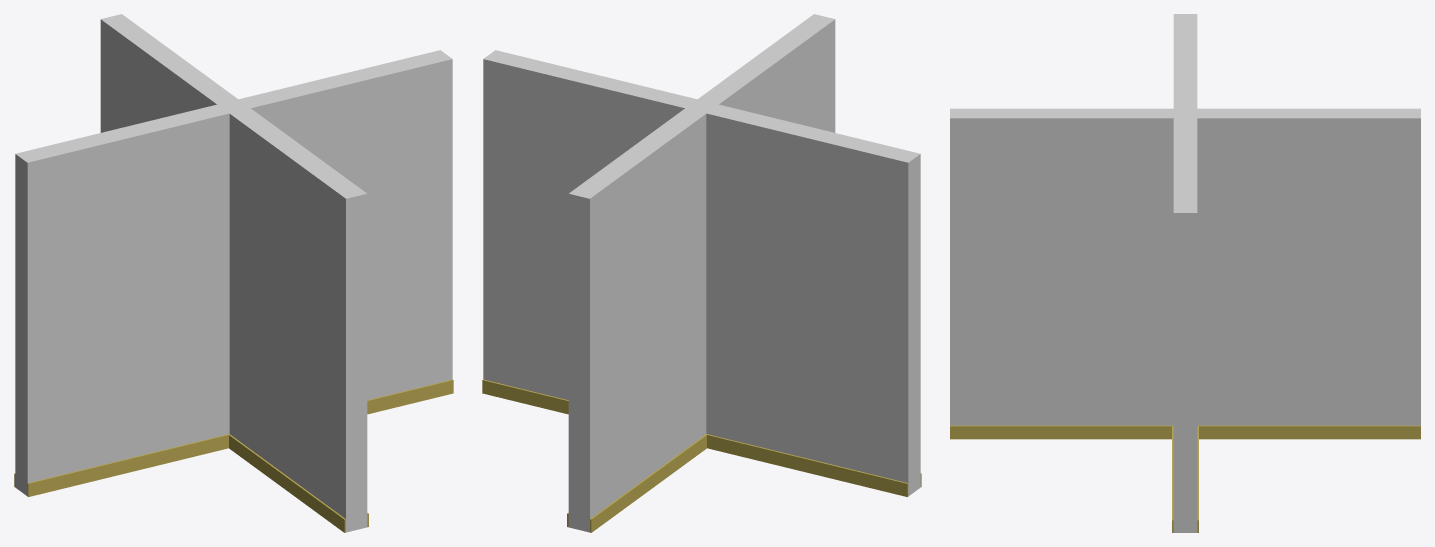
The model's file is MOD_07_Wall_CrossJunction.fbx.
The picture shows the model from 3 angles, left to right: view 1: azimuth 30°, elevation 25°; view 2: azimuth 150°, elevation 25°; view 3: azimuth 270°, elevation 25°; orthographic projection. The views are drawn at different scales.
Visible parts, largest first — view 1: MOD_07_Wall_CrossJunction; view 2: MOD_07_Wall_CrossJunction; view 3: MOD_07_Wall_CrossJunction.
Part boxes in pixels (x1,y1,x2,y2): MOD_07_Wall_CrossJunction: (14, 14, 453, 532); MOD_07_Wall_CrossJunction: (482, 14, 921, 532); MOD_07_Wall_CrossJunction: (950, 14, 1420, 532).
Bounding box in the file's own units: 4 × 3 × 4.
